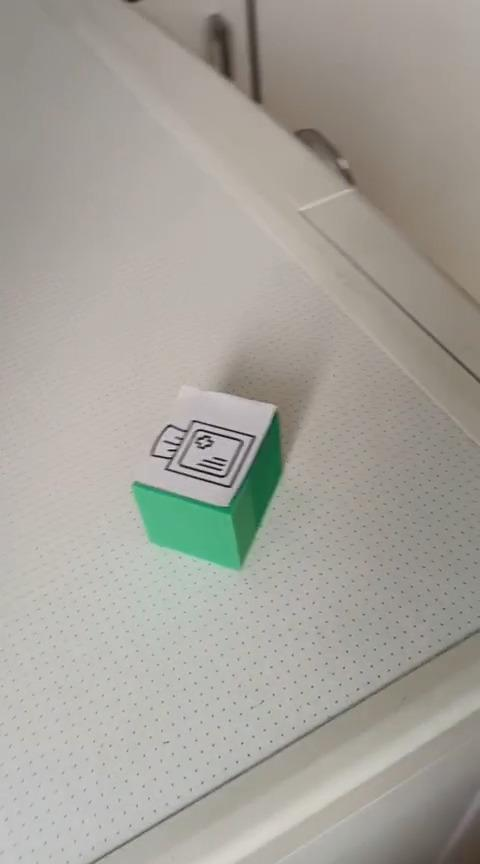Gauze: (129, 383, 283, 571)
